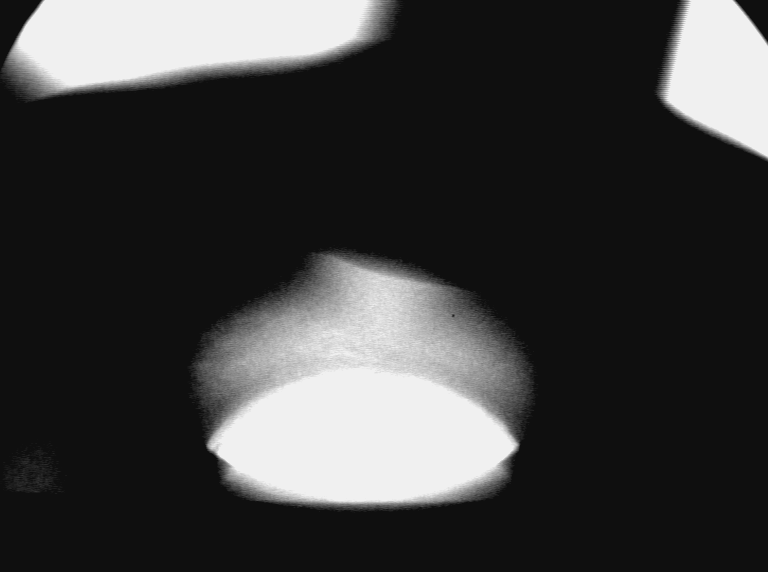defect: (310, 243, 470, 308)
